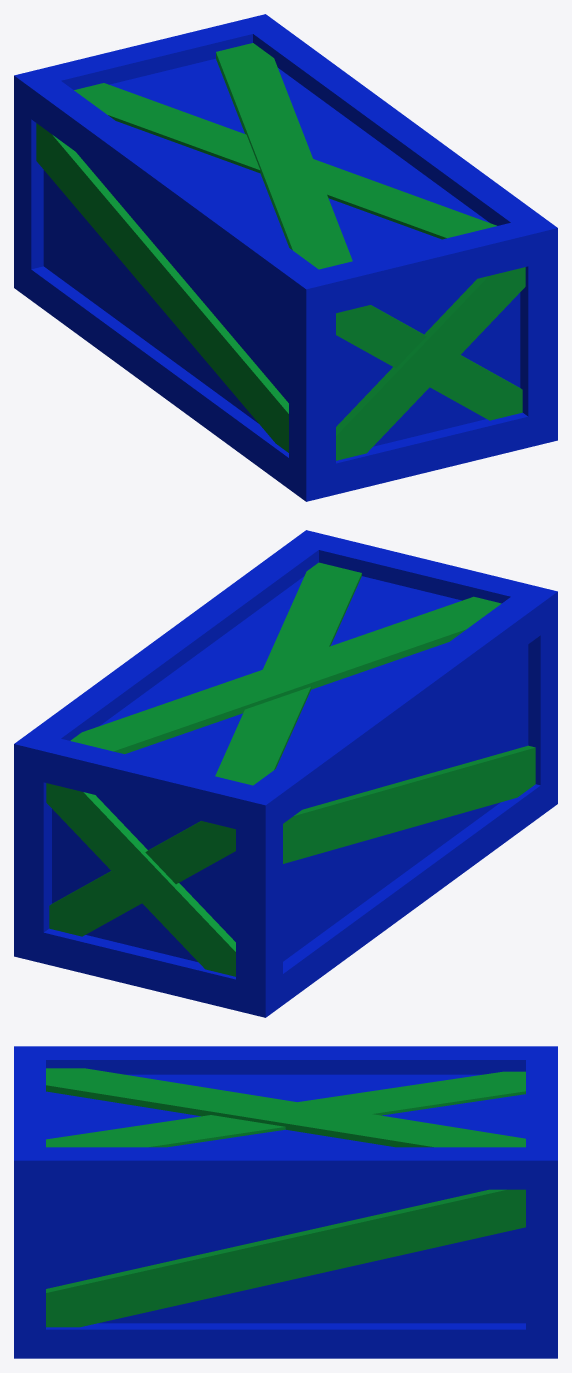
File: caja3_low.fbx
3 renders of one model, top to bottom at view 1: azimuth 30°, elevation 25°; view 2: azimuth 150°, elevation 25°; view 3: azimuth 270°, elevation 25°, orthographic. The views are drawn at different scales.
Parts seen in each view (by area): view 1: caja3_low; view 2: caja3_low; view 3: caja3_low.
Part boxes in pixels (x1,y1,x2,y2): caja3_low: [14, 14, 557, 501]; caja3_low: [14, 530, 557, 1017]; caja3_low: [14, 1046, 557, 1358].
Bounding box in the file's own units: 74.38 × 60 × 150.
